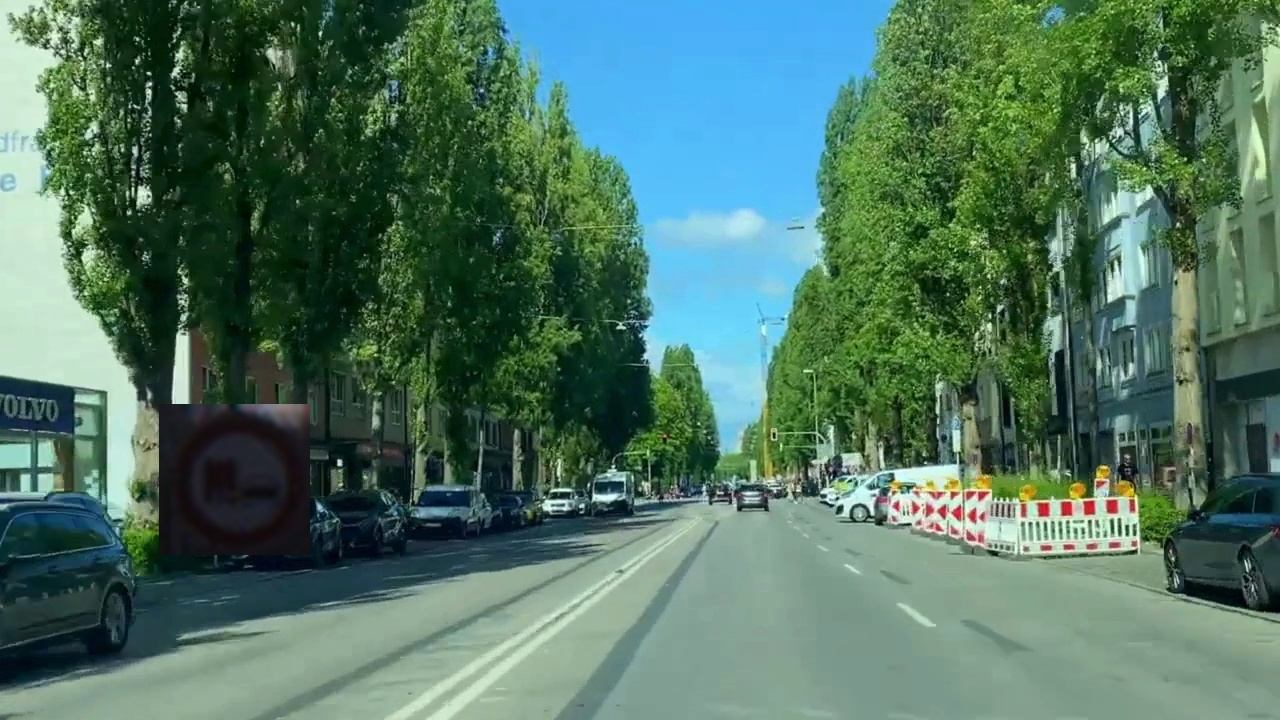No pass >3.5t: (159, 404, 310, 555)
